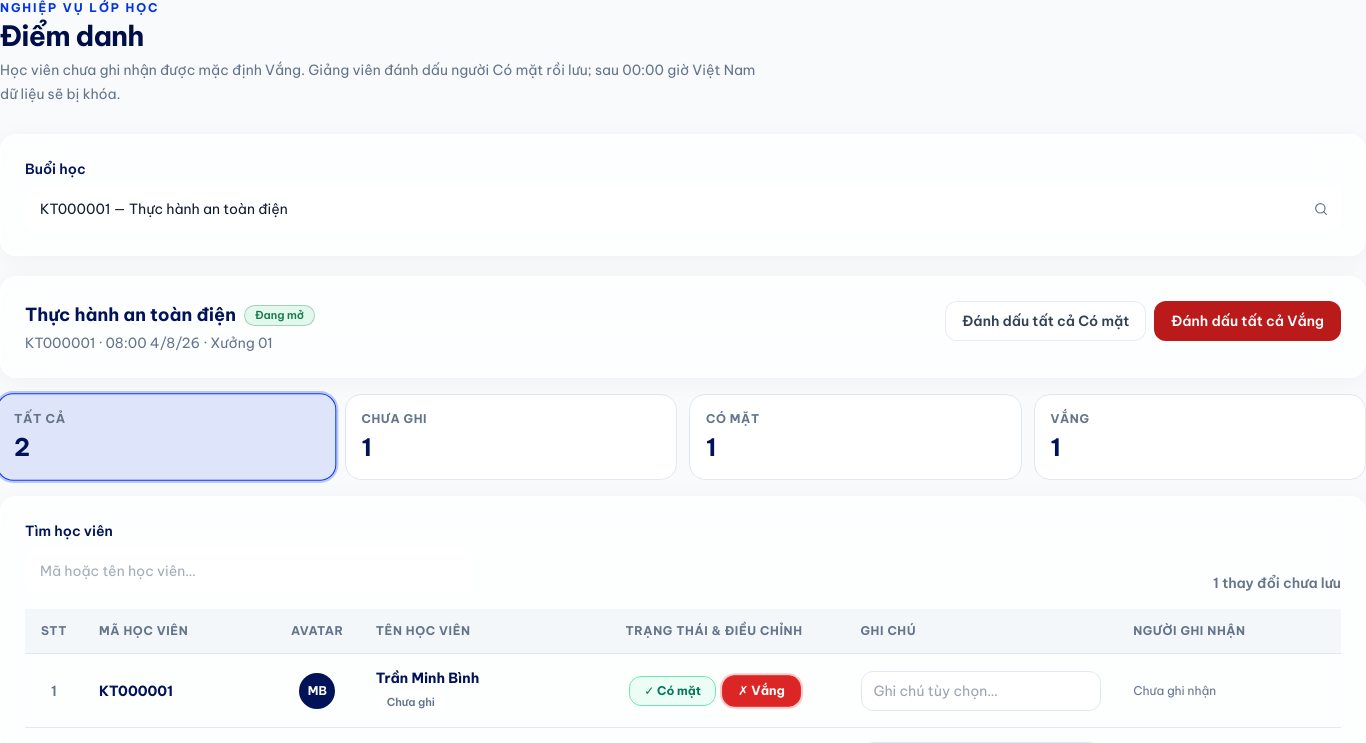
it: TeacherAttendancePage › requires confirmation before marking everyone absent
Expected: the text "Trần Minh Bình" is shown, top-left (376, 669), bottom-right (479, 687)
What coordinates should you click on to do the following:
click the button "Đánh dấu tất cả Vắng"
I would click on:
 (1248, 321)
Its box is top-left (1154, 301), bottom-right (1341, 341).
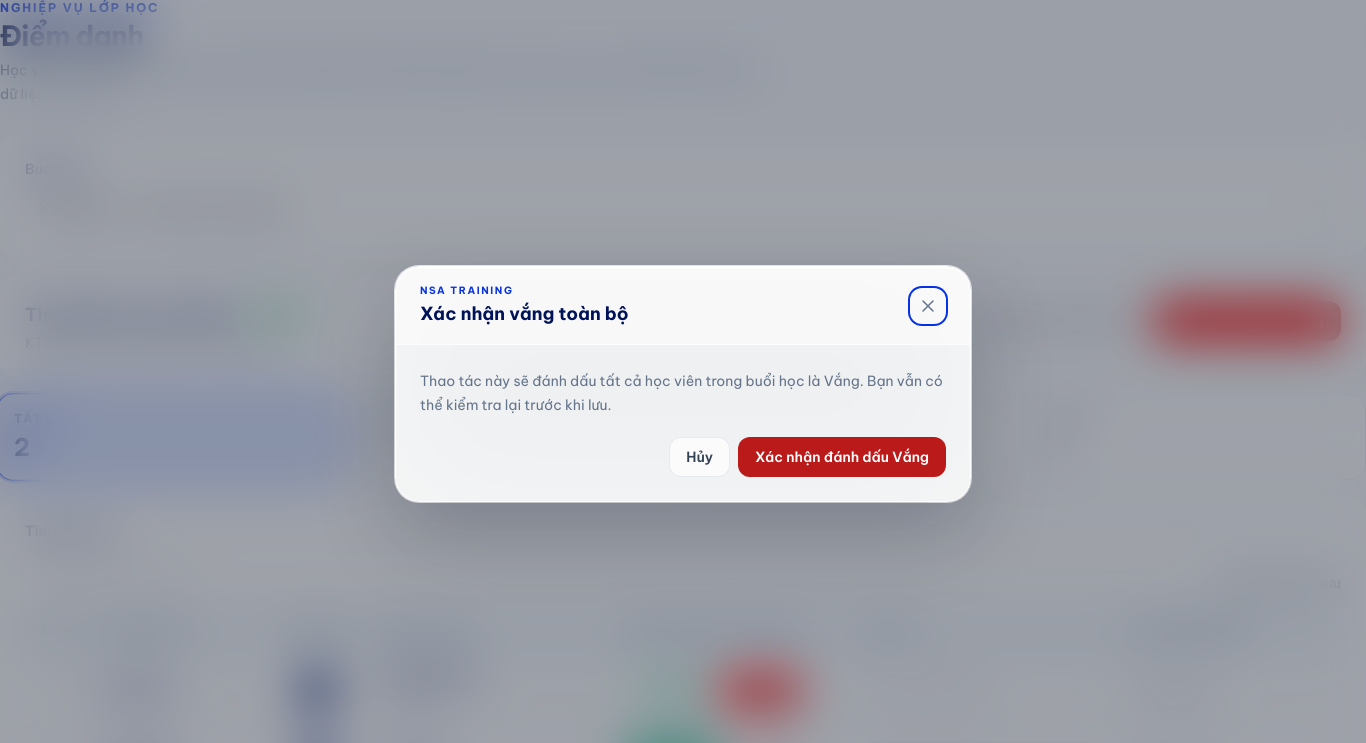
Expected: the dialog "Xác nhận vắng toàn bộ" is shown, top-left (395, 266), bottom-right (971, 502)
What coordinates should you click on to do the following:
click the button "Xác nhận đánh dấu Vắng"
I would click on:
 (842, 457)
Its box is top-left (738, 437), bottom-right (946, 477).
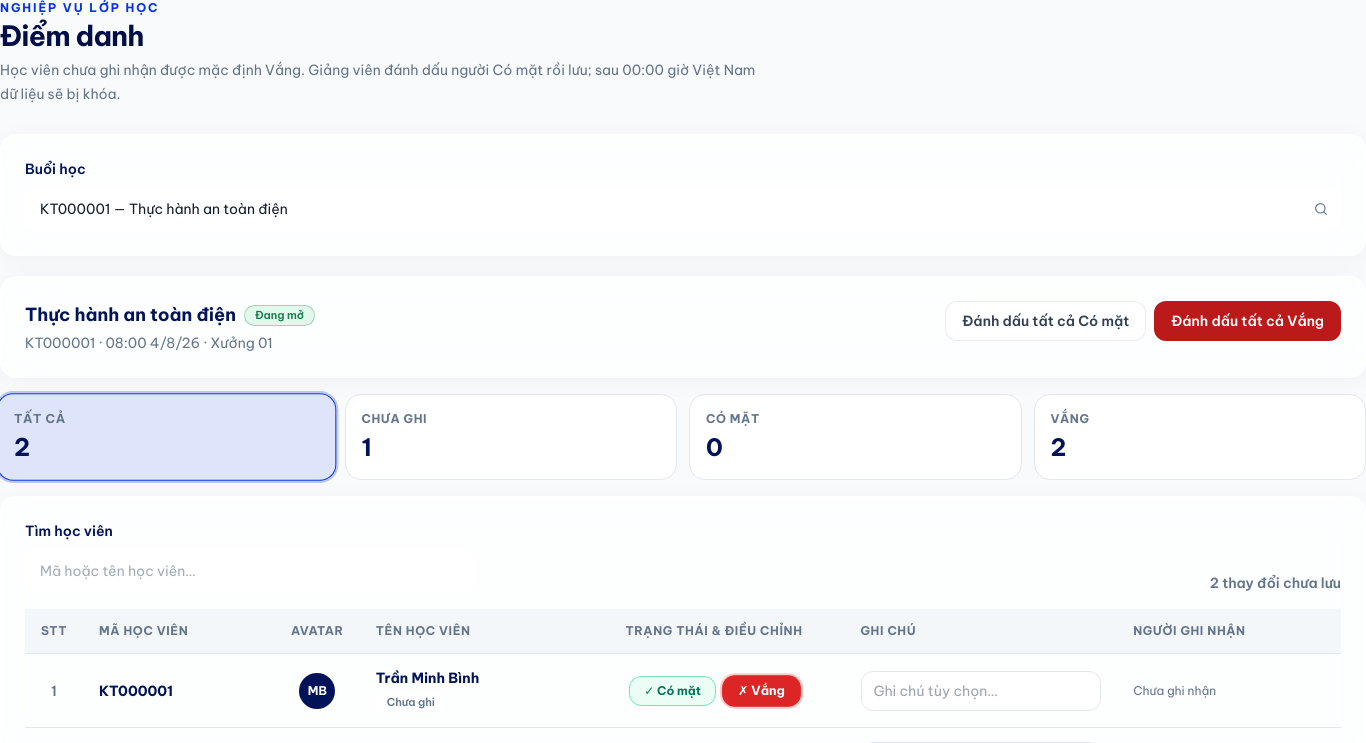
Expected: the text "2 thay đổi chưa lưu" is shown, top-left (1210, 573), bottom-right (1341, 593)
